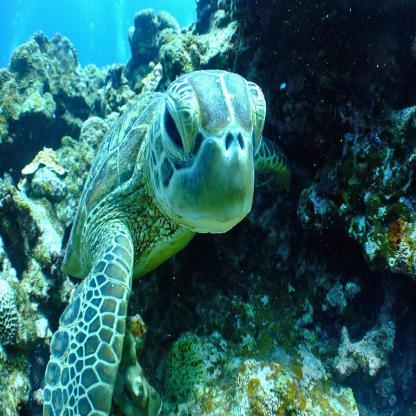turtle: (141, 65, 269, 242)
